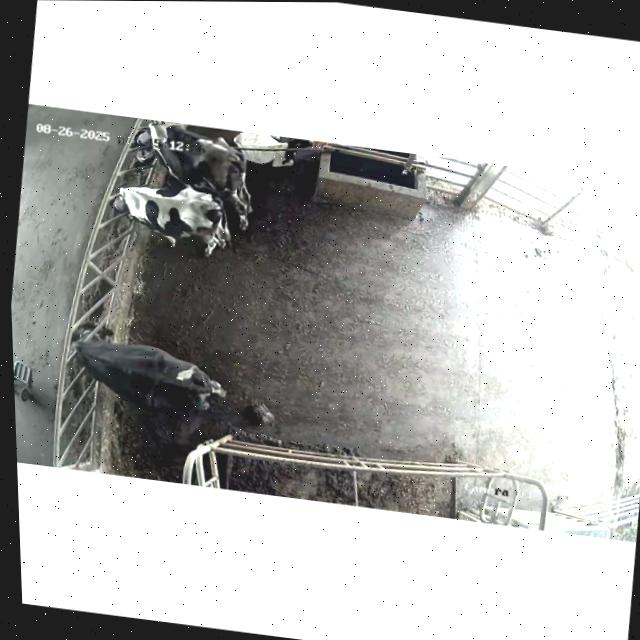eat: (39, 303, 149, 386), (85, 176, 172, 228), (108, 116, 188, 168)
